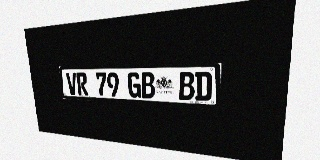7: (95, 72, 108, 96)
9: (106, 72, 120, 97)
B: (179, 72, 194, 100), (141, 72, 155, 99)
D: (195, 72, 212, 101)
G: (127, 72, 141, 98)
R: (76, 73, 88, 96)
V: (66, 73, 78, 95)
